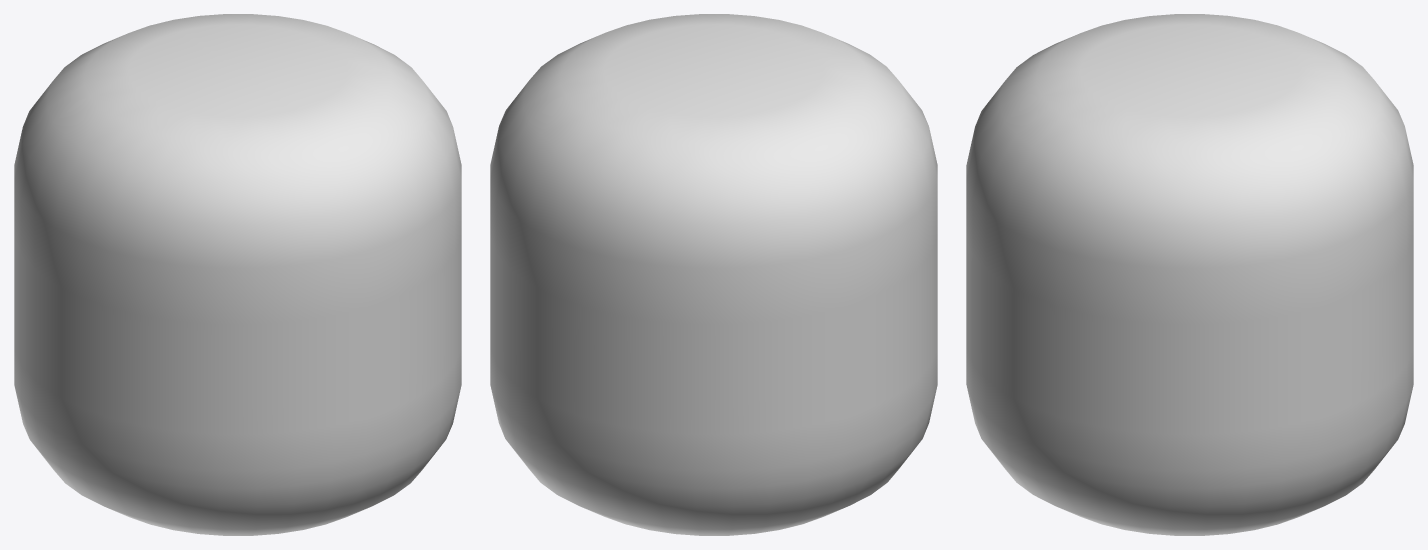
The model's file is 26-Silly-Cute-Fat-Little-thing-Animated-face.glb.
3 views of the same model, side by side, from view 1: azimuth 30°, elevation 25°; view 2: azimuth 150°, elevation 25°; view 3: azimuth 270°, elevation 25° (orthographic).
Parts seen in each view (by area): view 1: 26-Silly-Cute-Fat-Little-thing-Animated-face; view 2: 26-Silly-Cute-Fat-Little-thing-Animated-face; view 3: 26-Silly-Cute-Fat-Little-thing-Animated-face.
Boxes of the visible parts, x1=… form: 26-Silly-Cute-Fat-Little-thing-Animated-face: x1=14, y1=14, x2=461, y2=535; 26-Silly-Cute-Fat-Little-thing-Animated-face: x1=490, y1=14, x2=937, y2=535; 26-Silly-Cute-Fat-Little-thing-Animated-face: x1=966, y1=14, x2=1413, y2=535.
Size of the model in its own units: 1.2 by 1.21 by 1.2.
1 material, 1 textured.
